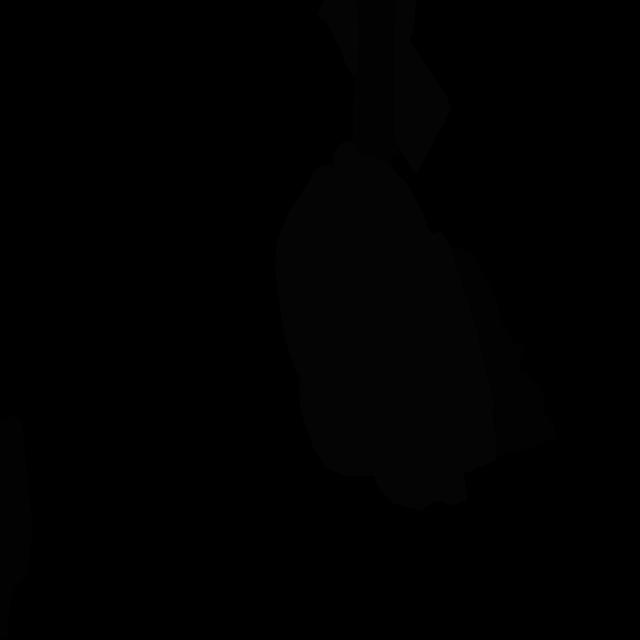cardboard: (452, 248, 558, 457), (353, 0, 400, 170), (0, 415, 32, 640)
soft_plastic: (275, 141, 497, 511), (394, 0, 451, 174), (318, 0, 358, 77)
